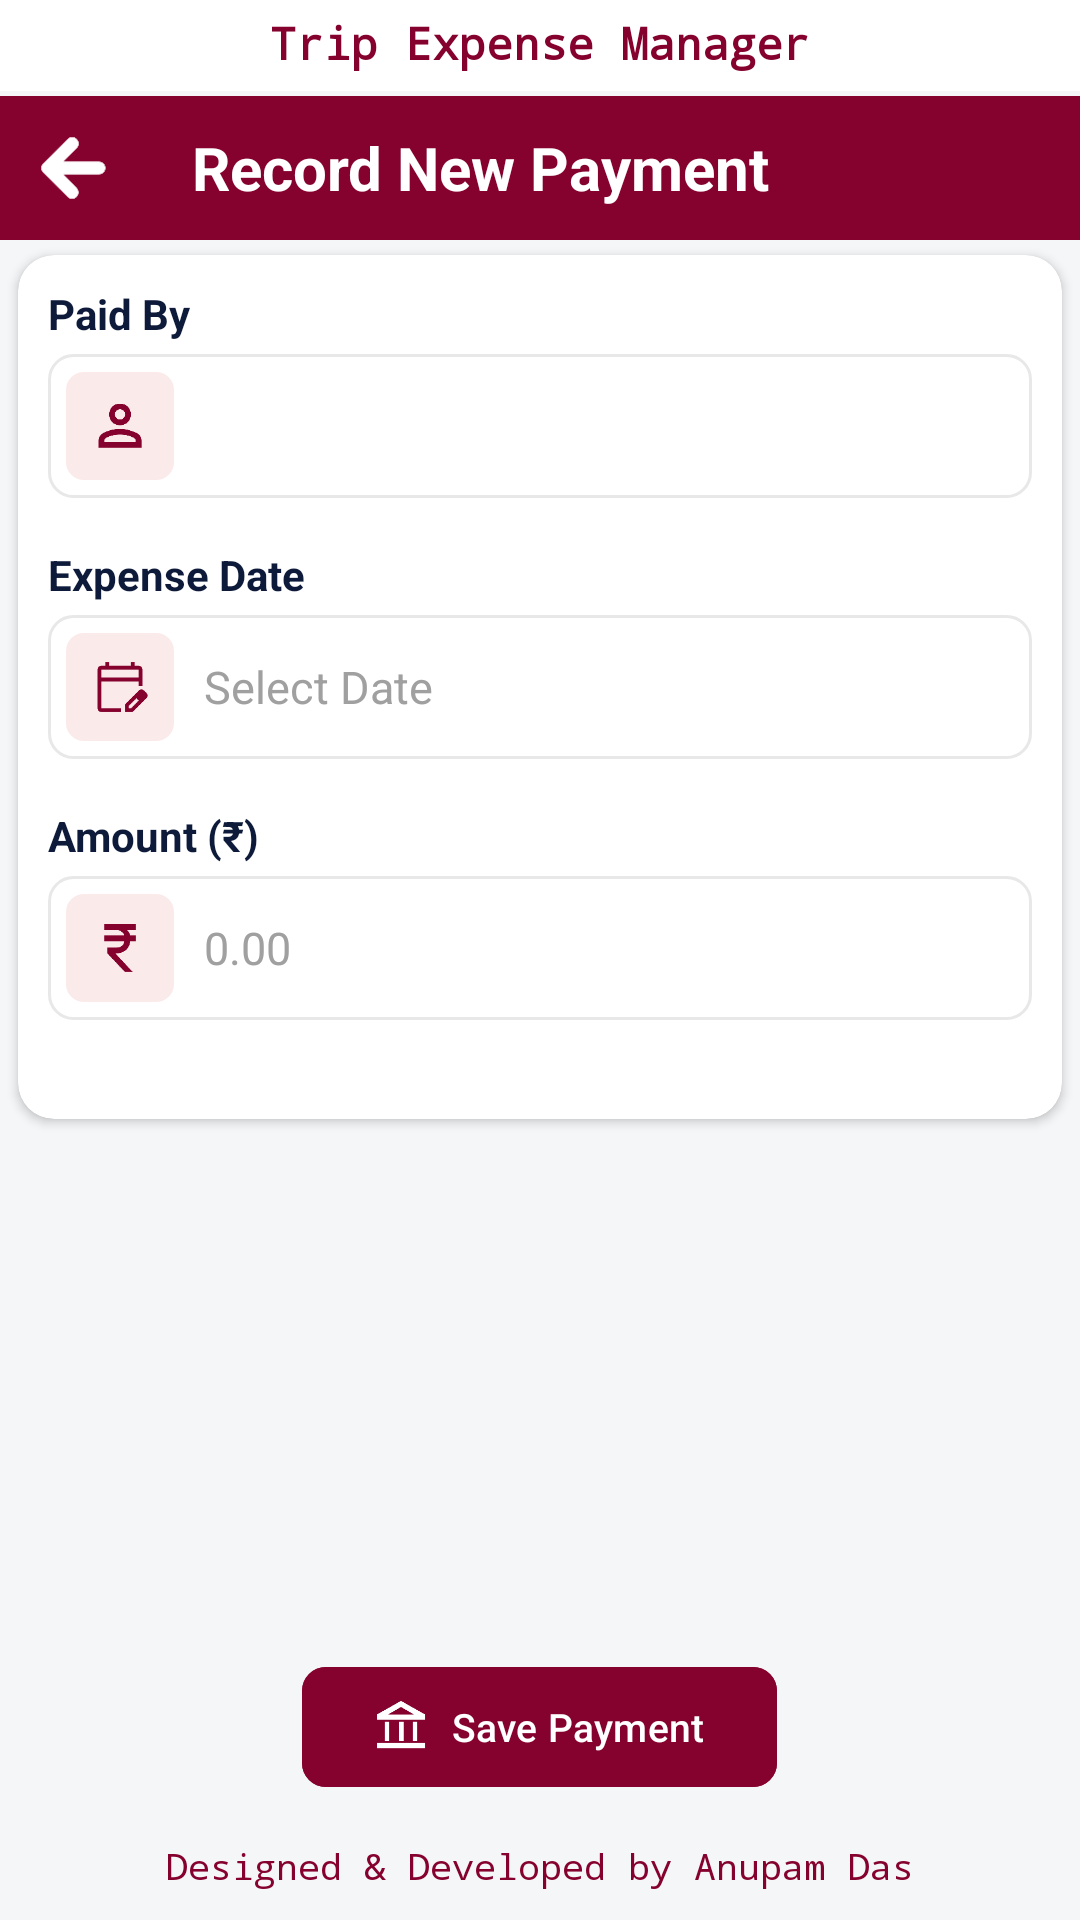

Named icons in this screenshot (1080×1920) and their bounding boxes, (x1=x1, y1=y1, x2=x2, y2=y2):
Calendar Icon: (x1=97, y1=662, x2=148, y2=712)
Currency Icon: (x1=104, y1=924, x2=136, y2=972)
Go back: (x1=41, y1=137, x2=106, y2=199)
